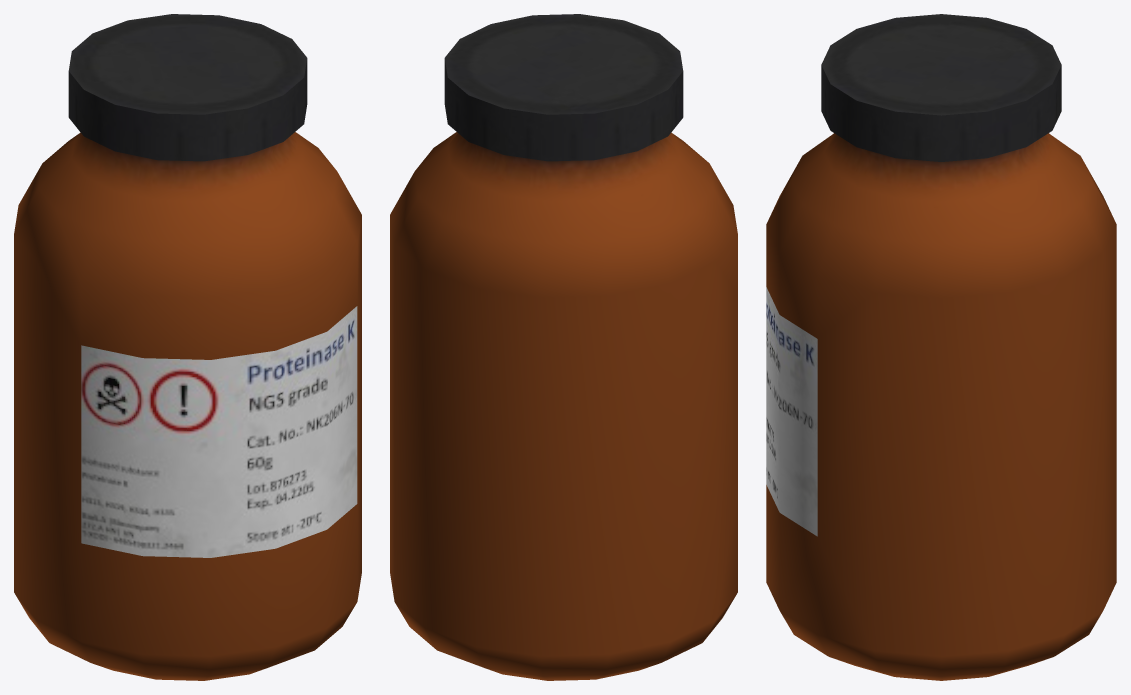
3 views of the same model, side by side, from view 1: azimuth 30°, elevation 25°; view 2: azimuth 150°, elevation 25°; view 3: azimuth 270°, elevation 25° (orthographic).
Visible parts, largest first — view 1: chemical1_NakedSingularity; view 2: chemical1_NakedSingularity; view 3: chemical1_NakedSingularity.
Part boxes in pixels (x1,y1,x2,y2): chemical1_NakedSingularity: [14, 14, 361, 680]; chemical1_NakedSingularity: [390, 14, 737, 680]; chemical1_NakedSingularity: [766, 14, 1116, 680].
Bounding box in the file's own units: 0.045 × 0.08 × 0.045.
2 materials, 2 textured.
